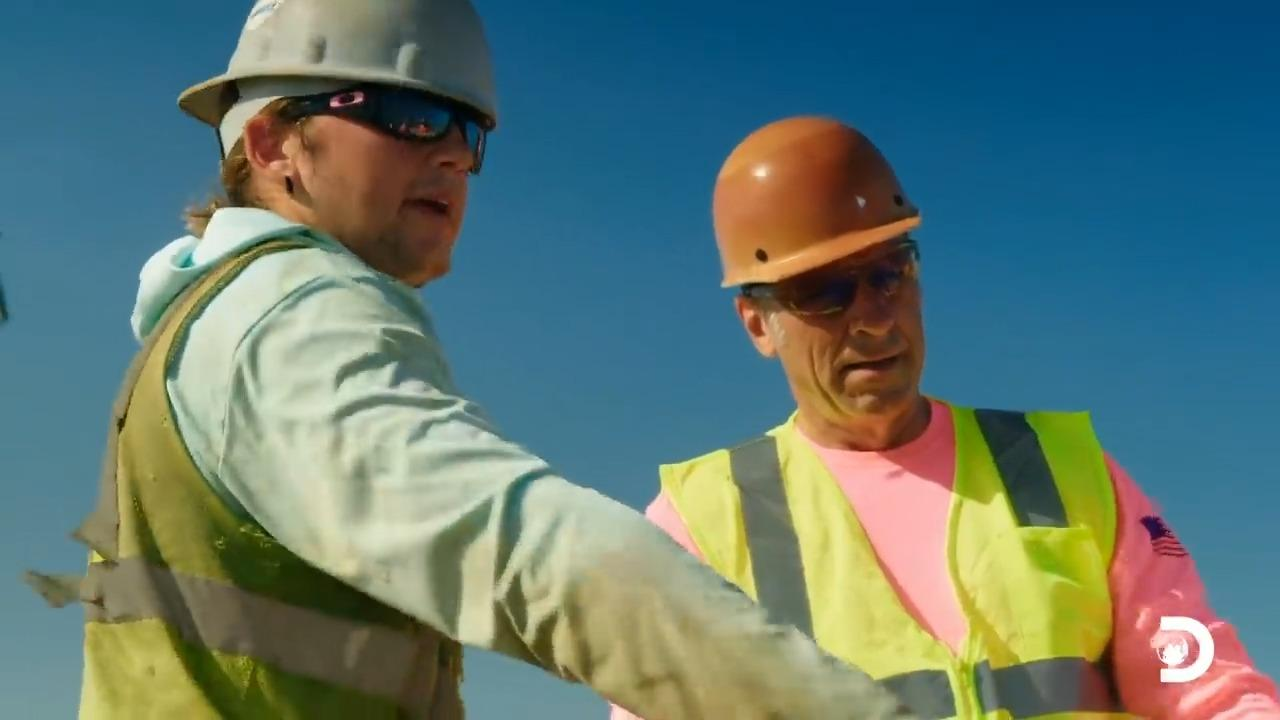Helmet: (161, 0, 511, 127), (711, 114, 921, 289)
Person: (63, 0, 917, 718), (604, 114, 1279, 719)
Safety Vest: (120, 329, 455, 717), (669, 432, 1113, 690)
